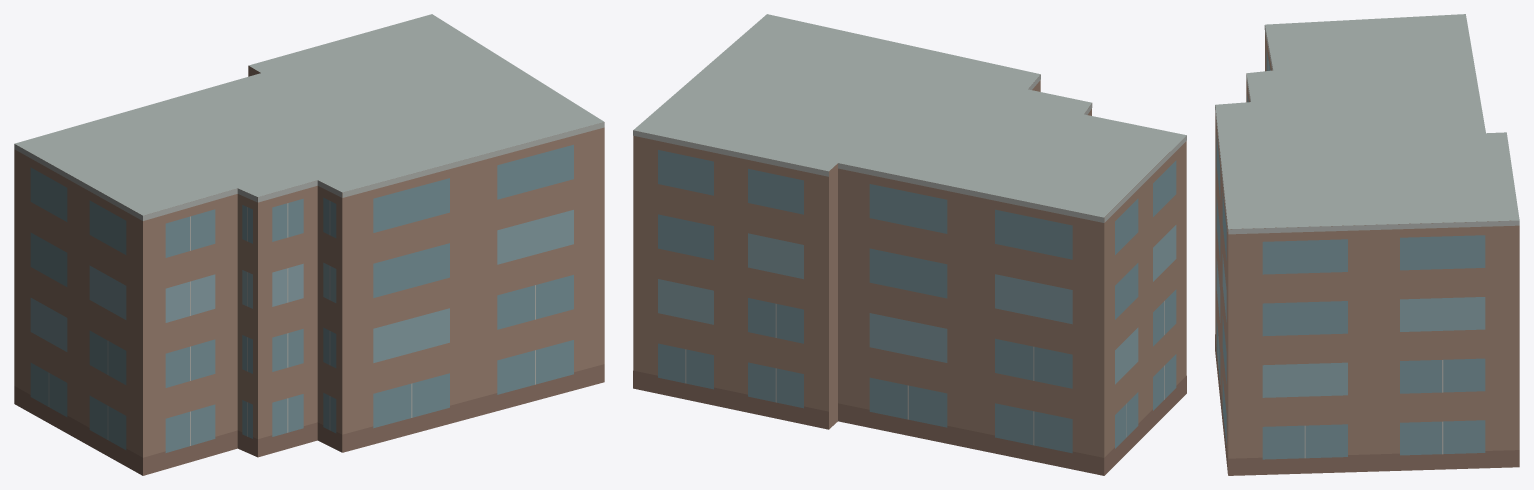
Rendered from survey-upis-32757670.glb.
The picture shows the model from 3 angles, left to right: view 1: azimuth 30°, elevation 25°; view 2: azimuth 150°, elevation 25°; view 3: azimuth 270°, elevation 25°; orthographic projection. The views are drawn at different scales.
Visible parts, largest first — view 1: survey-upis-32757670.tmp; view 2: survey-upis-32757670.tmp; view 3: survey-upis-32757670.tmp.
Boxes of the visible parts, bbox=[...] form: survey-upis-32757670.tmp: bbox=[14, 14, 604, 475]; survey-upis-32757670.tmp: bbox=[633, 14, 1186, 475]; survey-upis-32757670.tmp: bbox=[1215, 14, 1519, 475].
Bounding box in the file's own units: 21.71 × 11.6 × 12.98.
